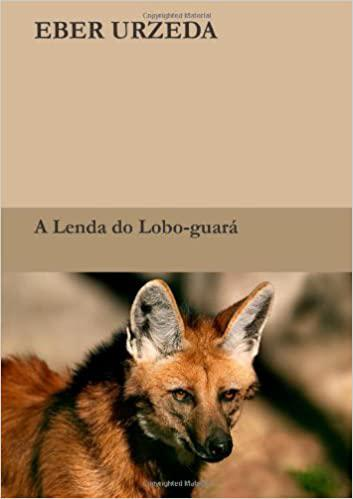LoboGuara: (10, 279, 283, 492)
